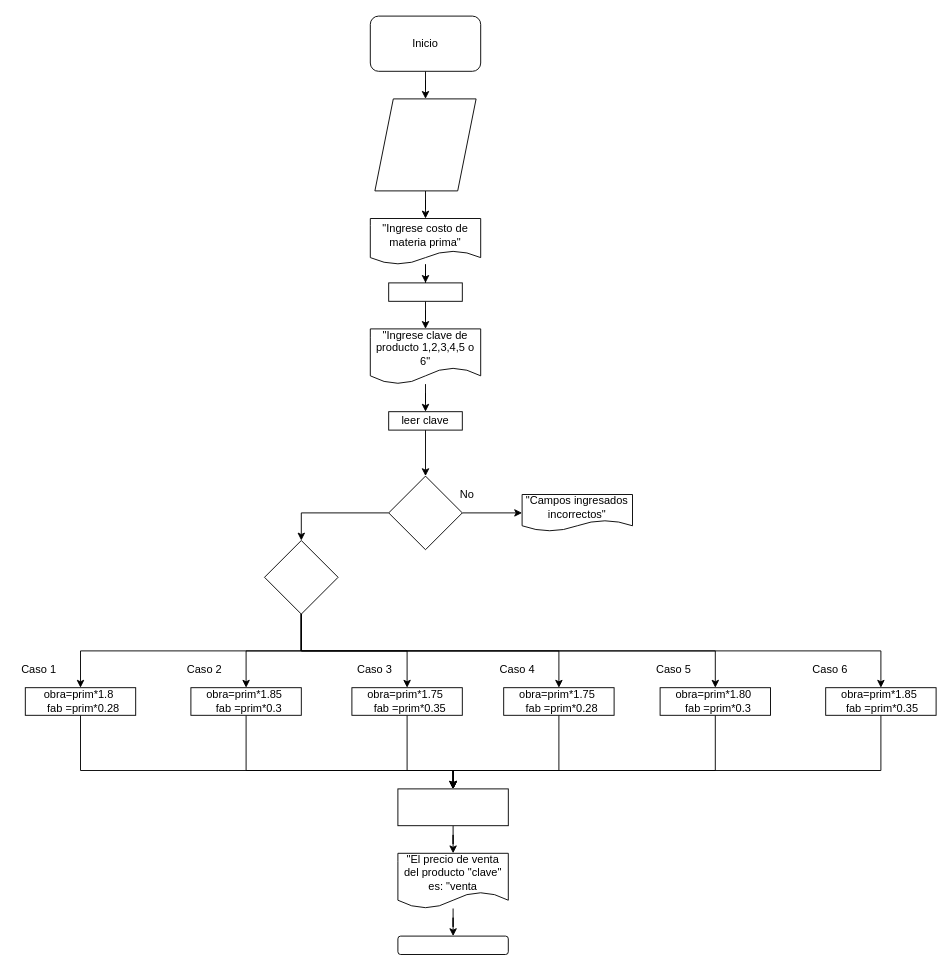
The diagram is 952 pixels wide and 971 high, and some of its shapes have lost their labels. The centre of each missing label's shape, as x and y in pixels:
"cost = prim+obra+fab venta = cost*1.45" belongs at (x=452, y=807).
"Fin" belongs at (x=452, y=944).
"integer prim integer cost integer obra integer fab integer venta integer clave" belongs at (x=425, y=144).
"leer prim" belongs at (x=425, y=291).
"prim>0 o clave<7" belongs at (x=425, y=512).
"segun clave" belongs at (x=301, y=577).
